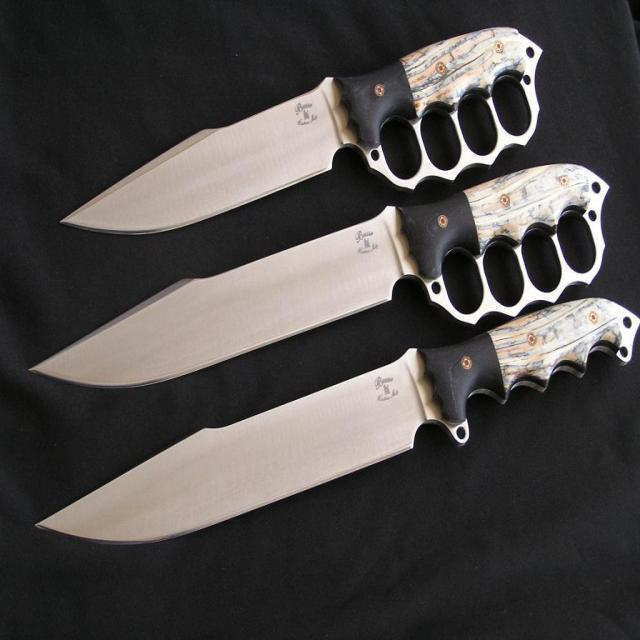Knife: (39, 298, 640, 542), (34, 164, 609, 386), (62, 28, 541, 233)
